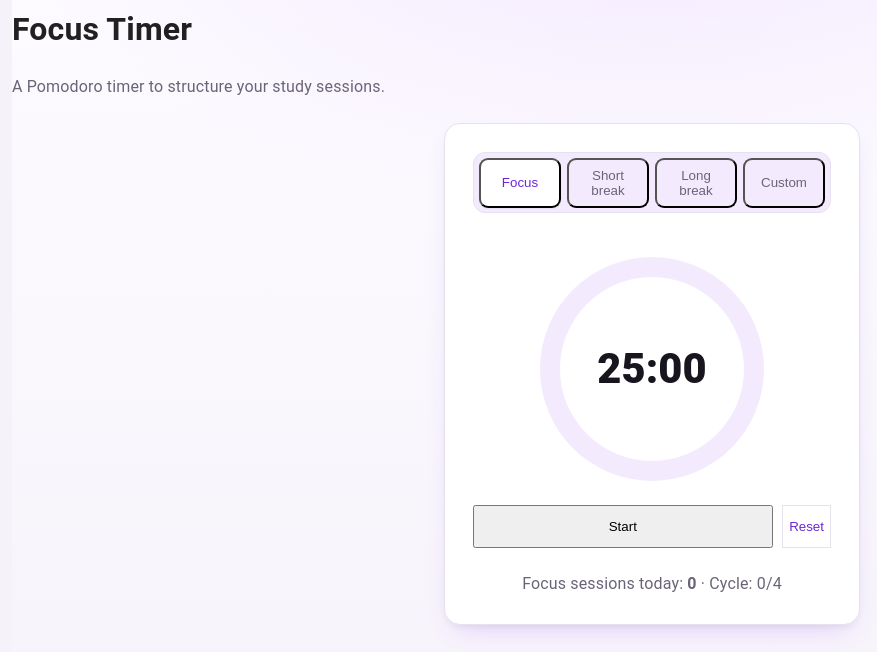
Test: FocusTimerPage › counts down once started
The width and height of the screenshot is (877, 652).
Click the button "Start": (623, 526) [473,506,773,548]
Wait 3000 ms
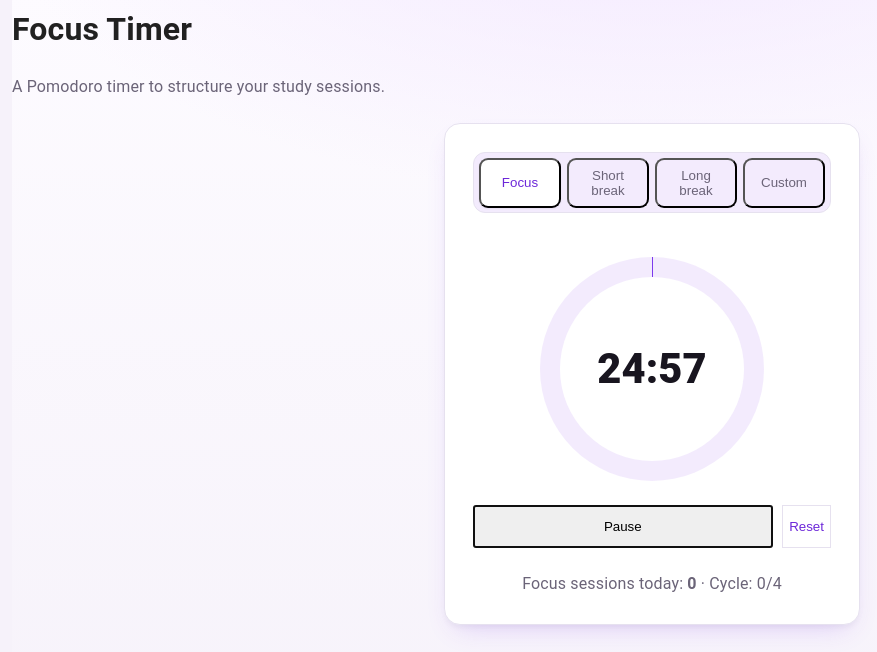
Check: the text "24:57" is shown, box [560,278,744,462]
